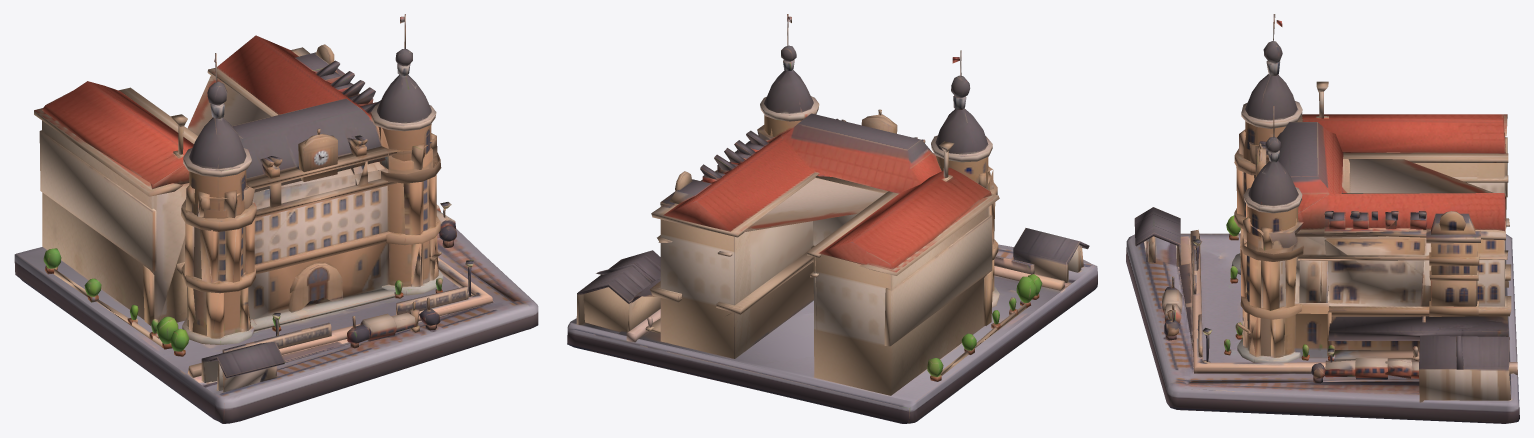
Rendered from haydarpasa-gari.glb.
3 views of the same model, side by side, from view 1: azimuth 30°, elevation 25°; view 2: azimuth 150°, elevation 25°; view 3: azimuth 270°, elevation 25° (orthographic). The views are drawn at different scales.
Parts seen in each view (by area): view 1: mesh_node; view 2: mesh_node; view 3: mesh_node.
Part boxes in pixels (x1,y1,x2,y2): mesh_node: [14, 14, 538, 423]; mesh_node: [567, 14, 1097, 423]; mesh_node: [1126, 14, 1519, 423].
Bounding box in the file's own units: 1 × 0.7637 × 0.9863.
Materials: 1 (1 with a texture image).
